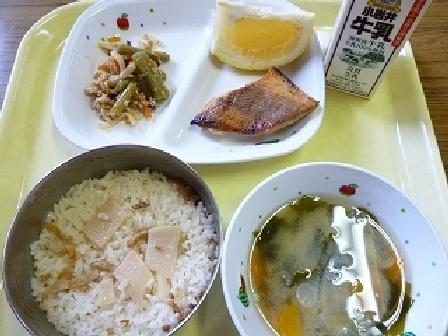Citrus: (197, 5, 325, 66)
Fish: (190, 66, 322, 149)
Milk: (318, 1, 437, 102)
Rice: (10, 154, 220, 334)
Soups: (217, 174, 446, 335)
vegetable based cooked food: (80, 35, 172, 122)
